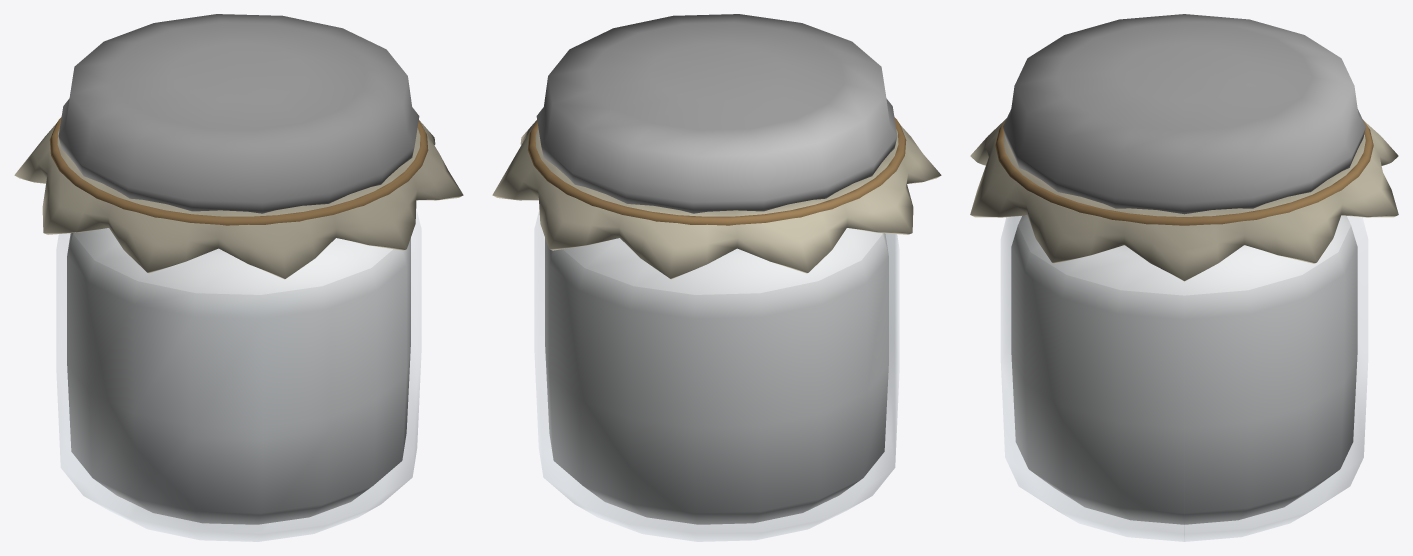
The model's file is Jelly_Jar.glb.
3 views of the same model, side by side, from view 1: azimuth 30°, elevation 25°; view 2: azimuth 150°, elevation 25°; view 3: azimuth 270°, elevation 25° (orthographic).
Visible parts, largest first — view 1: JAR_Jelly, JAR_Glass, JAR_Lid, JAR_Paper, JAR_Twine; view 2: JAR_Jelly, JAR_Lid, JAR_Glass, JAR_Paper, JAR_Twine; view 3: JAR_Jelly, JAR_Lid, JAR_Glass, JAR_Paper, JAR_Twine.
Boxes of the visible parts, left/top/right/bottom form: JAR_Jelly: left=67, top=228, right=410, bottom=524; JAR_Glass: left=57, top=210, right=420, bottom=541; JAR_Lid: left=58, top=14, right=419, bottom=213; JAR_Paper: left=14, top=120, right=463, bottom=279; JAR_Twine: left=49, top=117, right=428, bottom=225; JAR_Jelly: left=545, top=228, right=888, bottom=524; JAR_Lid: left=536, top=14, right=897, bottom=213; JAR_Glass: left=535, top=214, right=898, bottom=541; JAR_Paper: left=492, top=120, right=941, bottom=279; JAR_Twine: left=527, top=117, right=906, bottom=225; JAR_Jelly: left=1011, top=215, right=1357, bottom=524; JAR_Lid: left=1003, top=14, right=1365, bottom=214; JAR_Glass: left=1001, top=216, right=1367, bottom=541; JAR_Paper: left=970, top=118, right=1398, bottom=281; JAR_Twine: left=995, top=120, right=1373, bottom=225.
Size of the model in its own units: 1.06 by 1.05 by 1.
